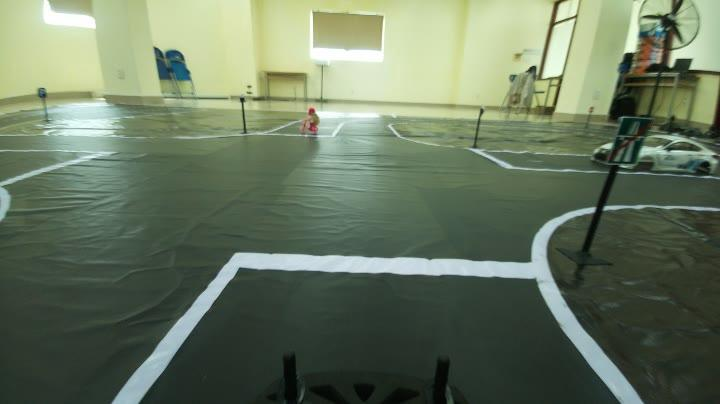highway_exit: (604, 109, 654, 168)
